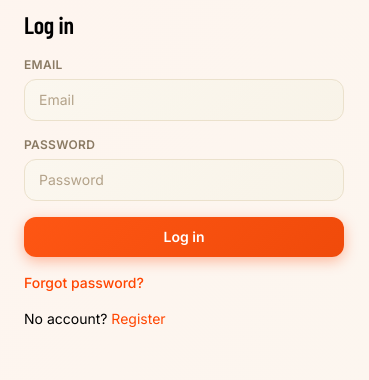
Test: LoginPage › shows an error message and stays on the page when login fails
In the field with placeholder "Email": (184, 100) [24,79,344,121], type "test@example.com"
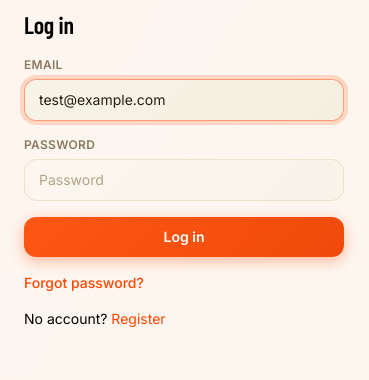
In the password field with placeholder "Password": (184, 180) [24,159,344,201], type "wrong"
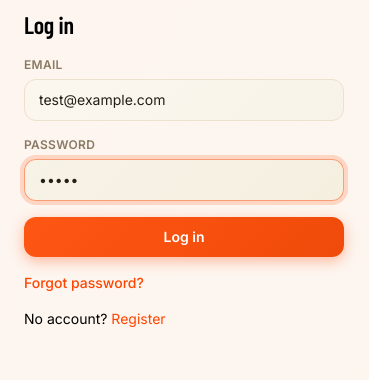
Click the button "Log in": (184, 237) [24,217,344,257]
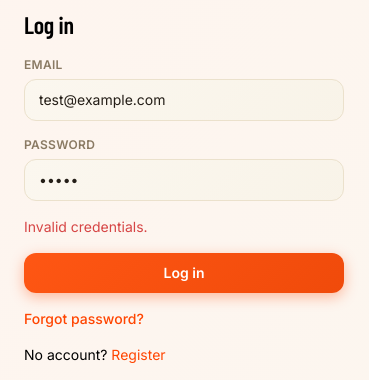
Check: the text "Invalid credentials." is shown, box [24,218,148,235]
